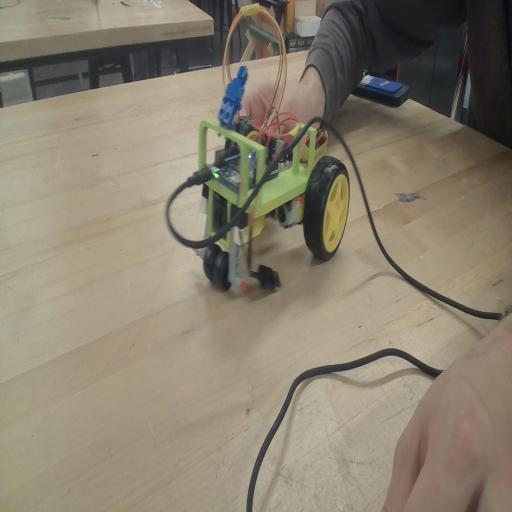blue LEGO minifig: (216, 63, 250, 129)
